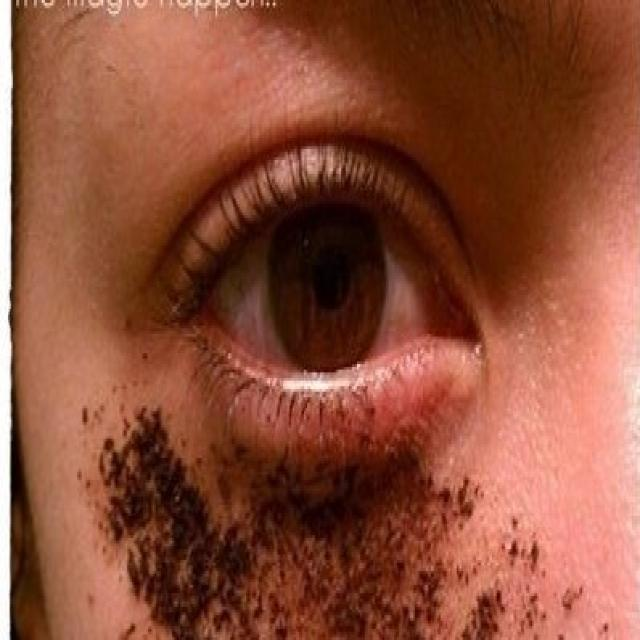Puffy Eyes - v3 Dark Circle: (160, 344, 504, 550)
